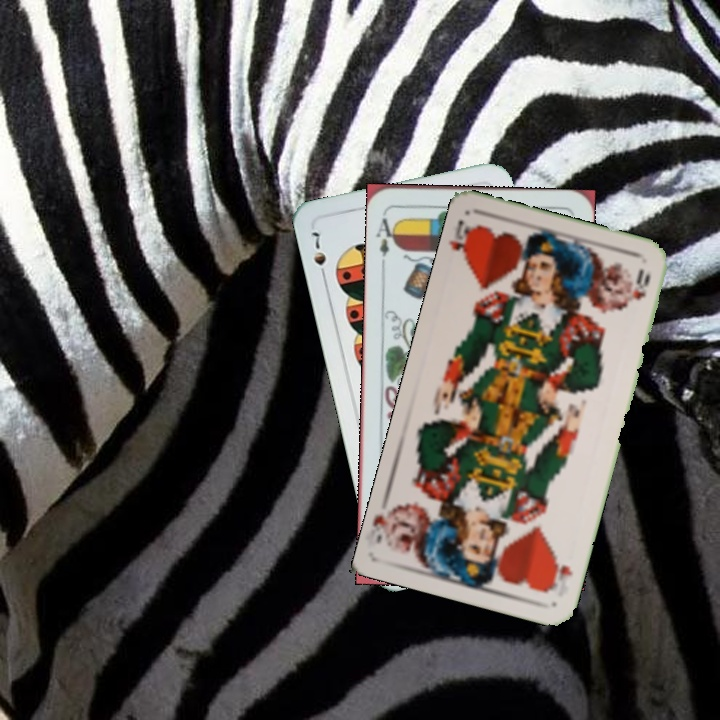EA: (372, 209, 400, 268)
HO: (446, 215, 479, 268), (544, 551, 575, 600)
S7: (308, 227, 329, 284)
